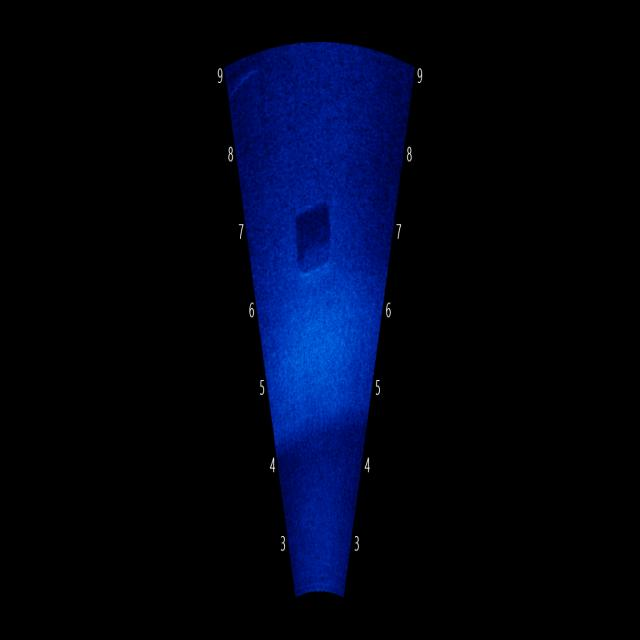square: (285, 178, 344, 294)
